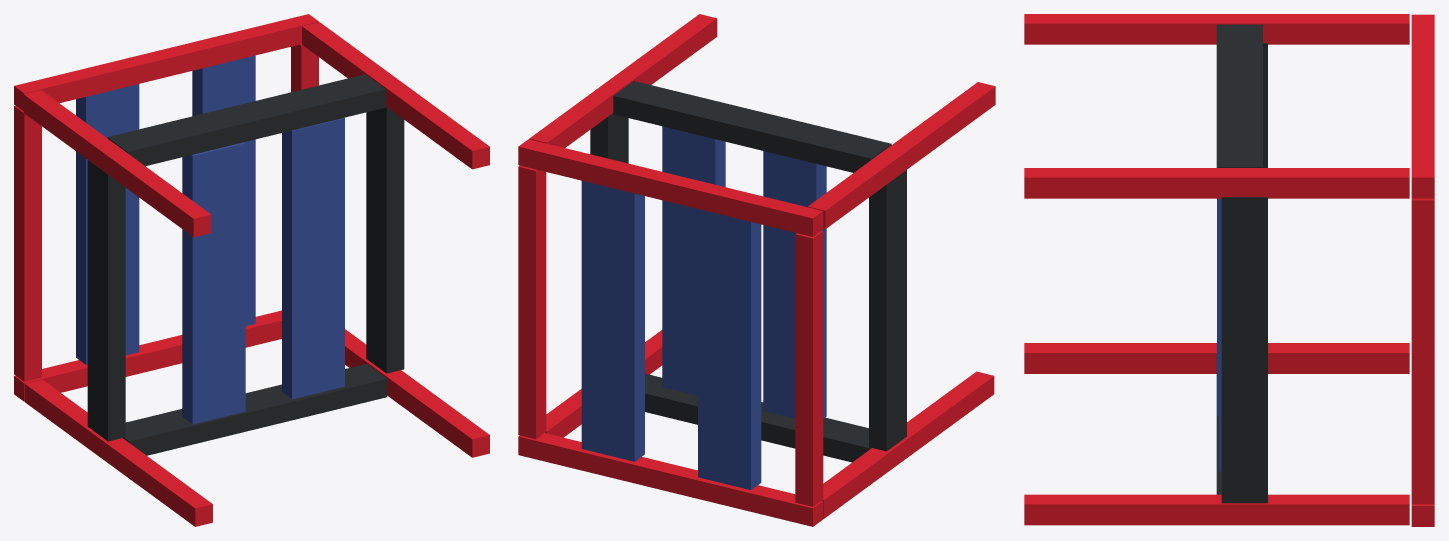
Rendered from tinker.obj.
3 views of the same model, side by side, from view 1: azimuth 30°, elevation 25°; view 2: azimuth 150°, elevation 25°; view 3: azimuth 270°, elevation 25° (orthographic). The views are drawn at different scales.
Parts seen in each view (by area): view 1: group_0_3888547, group_0_15277357, group_0_2829873; view 2: group_0_3888547, group_0_15277357, group_0_2829873; view 3: group_0_15277357, group_0_2829873, group_0_3888547.
Part boxes in pixels (bbox=[...]): group_0_3888547: bbox=[76, 55, 344, 424]; group_0_15277357: bbox=[14, 14, 489, 526]; group_0_2829873: bbox=[87, 74, 404, 455]; group_0_3888547: bbox=[581, 126, 826, 489]; group_0_15277357: bbox=[518, 14, 995, 526]; group_0_2829873: bbox=[590, 81, 906, 462]; group_0_15277357: bbox=[1024, 14, 1434, 526]; group_0_2829873: bbox=[1216, 24, 1267, 503]; group_0_3888547: bbox=[1217, 198, 1221, 471].
Size of the model in its own units: 202 by 200 by 213.
